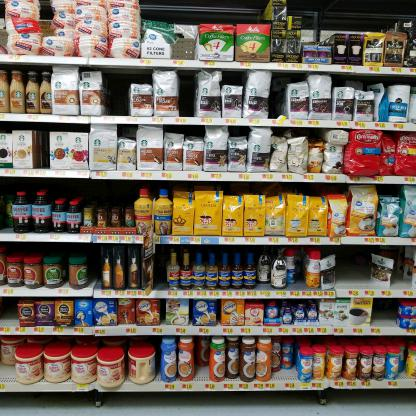Void: (336, 248, 371, 286), (102, 73, 127, 114), (394, 248, 411, 288), (270, 74, 287, 114), (85, 246, 102, 284), (373, 298, 395, 325), (181, 74, 194, 116), (154, 252, 166, 290), (3, 301, 16, 326)
